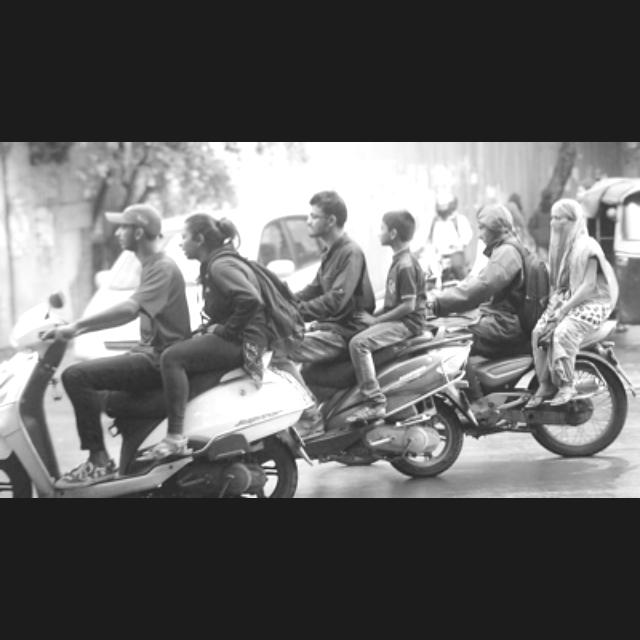Without Helmet: (104, 193, 162, 255), (464, 194, 518, 253), (304, 179, 350, 243), (180, 214, 230, 260), (378, 211, 412, 249)
